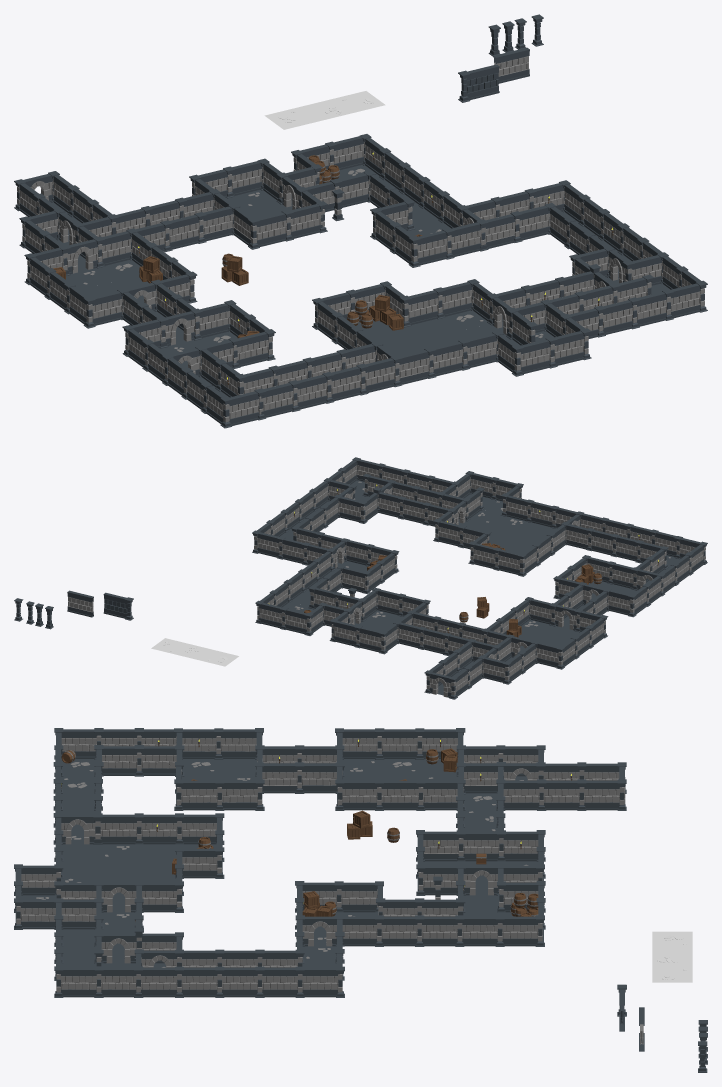
The model's file is Dungeon.fbx.
The picture shows the model from 3 angles, top to bottom: view 1: azimuth 30°, elevation 25°; view 2: azimuth 150°, elevation 25°; view 3: azimuth 270°, elevation 25°; orthographic projection. The views are drawn at different scales.
Parts seen in each view (by area): view 1: P&W copy, P&W.074, P&W.109, P&W.095, P&W.024, P&W.027, P&W.094, P&W.071, P&W.014, P&W.029, P&W.073, P&W.032 (+66 smaller); view 2: P&W copy, P&W.092, P&W.023, P&W.084, P&W.086, P&W.011, P&W.088, P&W.085, Wall, P&W.068, P&W.094, P&W.042 (+26 smaller); view 3: P&W.002, P&W.038, P&W.017, P&W.062, P&W.103, P&W.081, P&W.067, P&W.114, P&W.080, P&W.077, P&W.100, P&W.016 (+77 smaller).
Boxes of the visible parts, x1,y1,x2,y2 form: P&W copy: [458, 64, 499, 102]; P&W.074: [408, 230, 447, 267]; P&W.109: [511, 339, 550, 376]; P&W.095: [248, 212, 286, 249]; P&W.024: [236, 329, 275, 366]; P&W.027: [261, 380, 300, 417]; P&W.094: [281, 204, 322, 241]; P&W.071: [510, 205, 550, 242]; P&W.014: [190, 303, 229, 340]; P&W.029: [329, 363, 368, 401]; P&W.073: [442, 222, 482, 259]; P&W.032: [365, 355, 402, 392]; P&W copy: [103, 592, 133, 620]; P&W.092: [359, 627, 387, 654]; P&W.023: [608, 590, 636, 617]; P&W.084: [483, 657, 511, 684]; P&W.086: [285, 609, 313, 635]; P&W.011: [536, 642, 564, 669]; P&W.088: [333, 621, 362, 648]; P&W.085: [258, 603, 288, 629]; Wall: [67, 590, 93, 617]; P&W.068: [257, 532, 285, 559]; P&W.094: [377, 589, 405, 616]; P&W.042: [468, 541, 495, 568]; P&W.002: [381, 779, 425, 810]; P&W.038: [99, 813, 143, 844]; P&W.017: [179, 779, 224, 810]; P&W.062: [139, 966, 183, 997]; P&W.103: [582, 779, 626, 810]; P&W.081: [500, 915, 544, 946]; P&W.067: [300, 966, 344, 997]; P&W.114: [54, 966, 98, 997]; P&W.080: [460, 915, 504, 946]; P&W.077: [379, 915, 424, 946]; P&W.100: [542, 779, 586, 810]; P&W.016: [221, 779, 264, 810].
Size of the model in its own units: 7455 by 360 by 6899.
